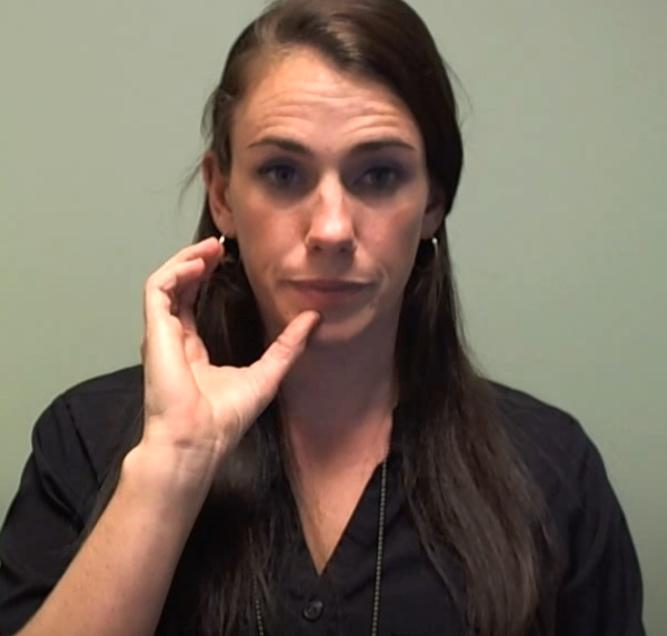drink: (136, 229, 322, 485)
